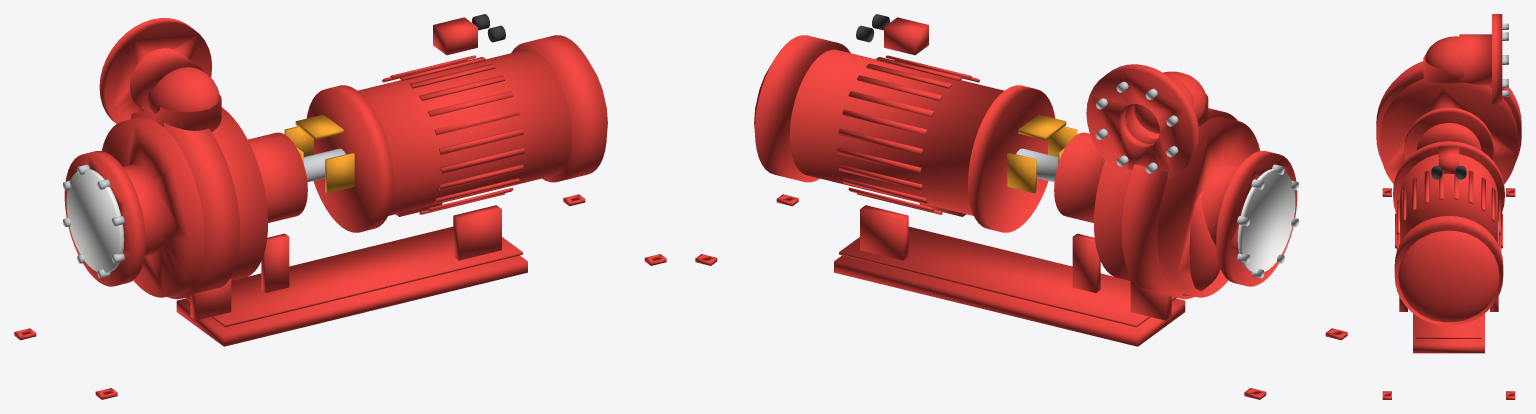
File: fire-pump-01.glb
3 renders of one model, left to right at view 1: azimuth 30°, elevation 25°; view 2: azimuth 150°, elevation 25°; view 3: azimuth 270°, elevation 25°, orthographic. The views are drawn at different scales.
Parts seen in each view (by area): view 1: OBJ_FirePump_01, OBJ_Inlet_Cap, OBJ_Coupling_Guard, OBJ_Coupling_Shaft; view 2: OBJ_FirePump_01, OBJ_Inlet_Cap, OBJ_Coupling_Guard, OBJ_Coupling_Shaft; view 3: OBJ_FirePump_01.
Boxes of the visible parts, x1,y1,x2,y2 form: OBJ_FirePump_01: (14,17,666,399); OBJ_Inlet_Cap: (66,169,124,272); OBJ_Coupling_Guard: (284,114,354,193); OBJ_Coupling_Shaft: (303,148,345,182); OBJ_FirePump_01: (695,17,1347,399); OBJ_Inlet_Cap: (1237,169,1295,272); OBJ_Coupling_Guard: (1007,114,1077,193); OBJ_Coupling_Shaft: (1016,148,1058,182); OBJ_FirePump_01: (1376,14,1521,399).
Bounding box in the file's own units: 1.44 × 0.7099 × 0.424.
